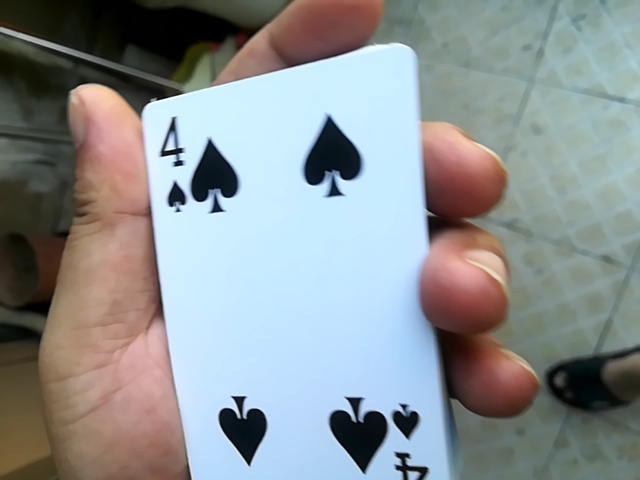ht 4: (137, 43, 433, 480)
